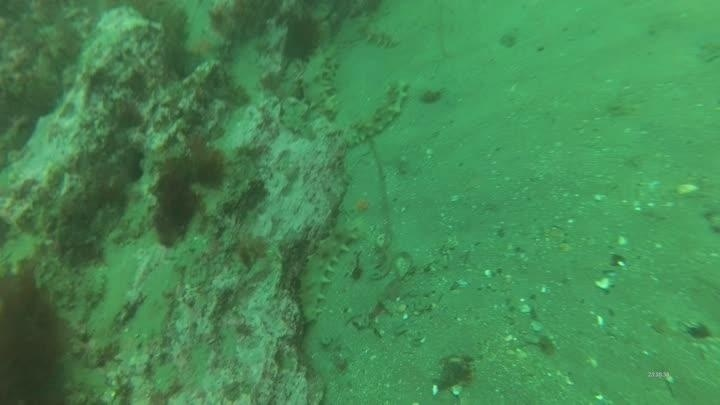echinus: (0, 270, 76, 405), (279, 15, 324, 65)
holothurian: (292, 217, 363, 327), (336, 78, 412, 151), (297, 42, 343, 120), (342, 17, 404, 52)
starfish: (181, 26, 230, 66)
